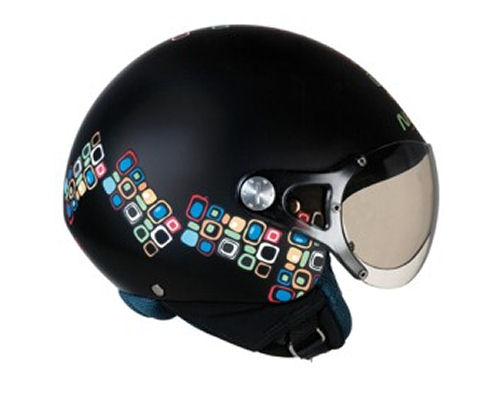helmet: (84, 29, 403, 339)
